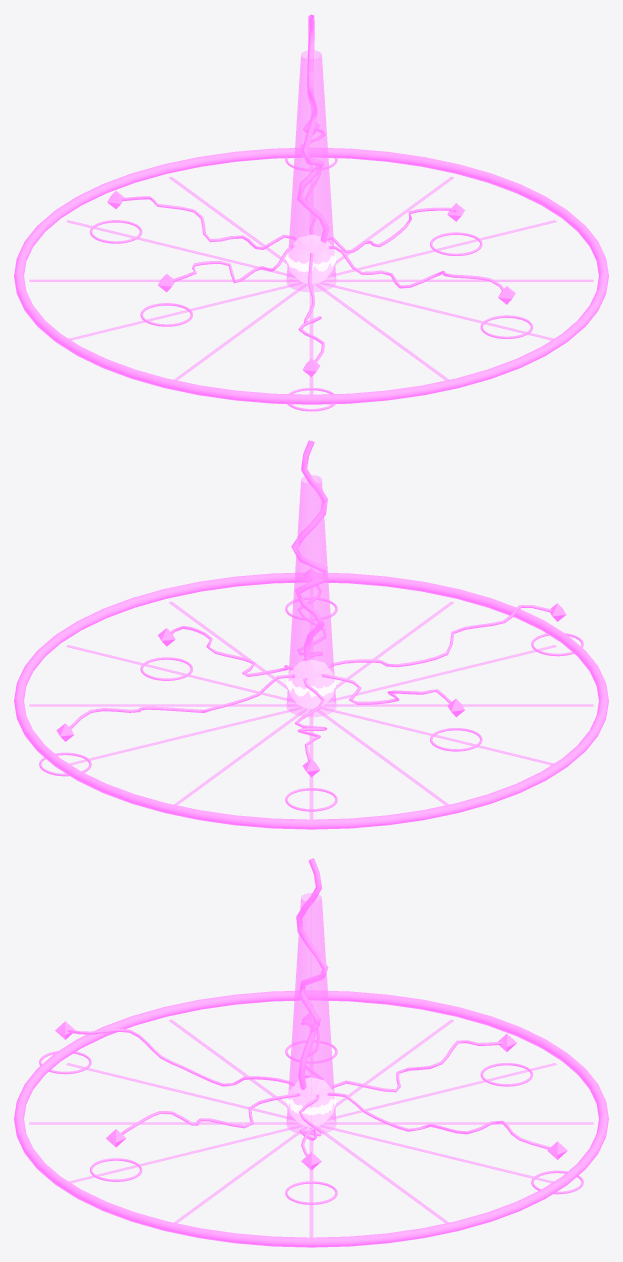
The model's file is vfx_ability_chainsurge.glb.
3 renders of one model, top to bottom at view 1: azimuth 30°, elevation 25°; view 2: azimuth 150°, elevation 25°; view 3: azimuth 270°, elevation 25°, orthographic.
Visible parts, largest first — view 1: cs_ring, cs_pillar, cs_flash, cs_strike, cs_chain4, cs_chain1, cs_spoke1, cs_spoke7, cs_spoke2, cs_spoke6, cs_spoke0, cs_spoke8 (+5 smaller); view 2: cs_ring, cs_pillar, cs_strike, cs_flash, cs_chain2, cs_chain5, cs_spoke11, cs_spoke5, cs_spoke10, cs_spoke6, cs_spoke4, cs_spoke0 (+5 smaller); view 3: cs_ring, cs_pillar, cs_strike, cs_flash, cs_chain2, cs_chain5, cs_chain1, cs_chain4, cs_spoke9, cs_spoke3, cs_spoke10, cs_spoke2 (+4 smaller).
Part boxes in pixels (x1,y1,x2,y2): cs_ring: [14, 148, 608, 404]; cs_pillar: [286, 50, 336, 291]; cs_flash: [286, 234, 336, 283]; cs_strike: [297, 14, 329, 243]; cs_chain4: [121, 196, 297, 249]; cs_chain1: [328, 245, 503, 290]; cs_spoke1: [322, 279, 593, 281]; cs_spoke7: [29, 279, 300, 281]; cs_spoke2: [320, 282, 553, 340]; cs_spoke6: [69, 282, 302, 340]; cs_spoke0: [327, 220, 556, 277]; cs_spoke8: [66, 220, 295, 277]; cs_ring: [14, 573, 608, 829]; cs_pillar: [286, 475, 336, 716]; cs_strike: [291, 440, 327, 660]; cs_flash: [286, 659, 336, 708]; cs_chain2: [327, 605, 552, 667]; cs_chain5: [69, 674, 295, 728]; cs_spoke11: [29, 704, 300, 706]; cs_spoke5: [322, 704, 593, 706]; cs_spoke10: [69, 707, 302, 765]; cs_spoke6: [320, 707, 553, 765]; cs_spoke4: [327, 645, 556, 702]; cs_spoke0: [66, 645, 295, 702]; cs_ring: [14, 990, 608, 1247]; cs_pillar: [286, 893, 336, 1133]; cs_strike: [296, 858, 328, 1089]; cs_flash: [286, 1077, 336, 1126]; cs_chain2: [67, 1028, 295, 1086]; cs_chain5: [327, 1092, 550, 1149]; cs_chain1: [121, 1093, 300, 1134]; cs_chain4: [330, 1040, 503, 1092]; cs_spoke9: [322, 1122, 593, 1124]; cs_spoke3: [29, 1122, 300, 1124]; cs_spoke10: [320, 1125, 553, 1183]; cs_spoke2: [69, 1125, 302, 1183].
Size of the model in its own units: 14.24 by 7.03 by 14.24.
